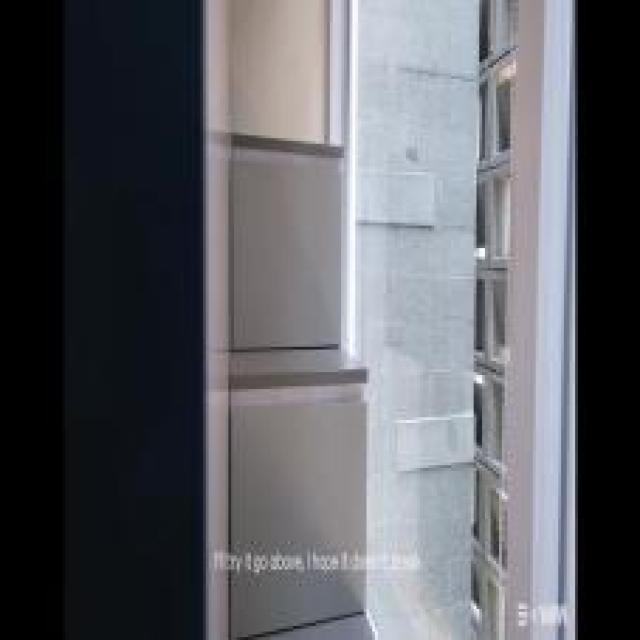upstair: (227, 97, 371, 638)
